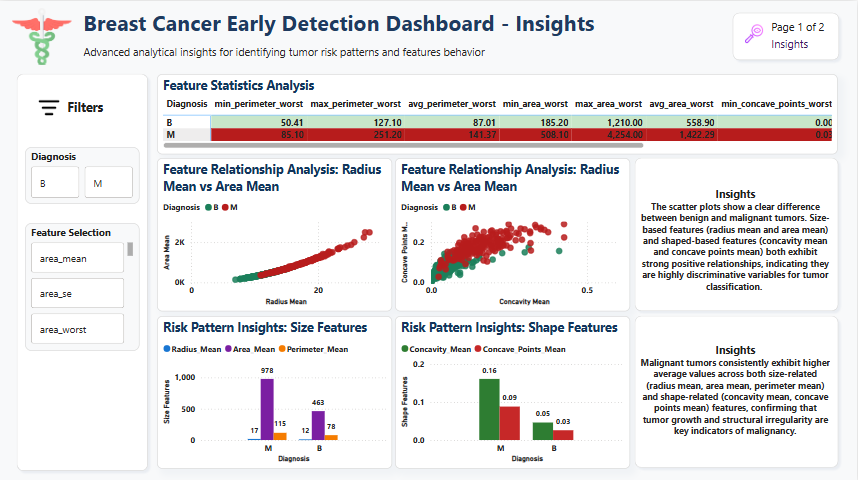

The page's visual inventory and layout, read from the dashboard file:
{"tool":"powerbi","page":{"name":"Page 2","canvas":[1280,720],"ordinal":1},"visuals":[{"type":"textbox","box":[121.4,3.9,805.3,59.3],"z":0},{"type":"textbox","box":[1148,23.1,92.5,34.4],"z":0,"group":"g1"},{"type":"textbox","box":[1148,48,92.5,34.4],"z":1000,"group":"g1"},{"type":"textbox","box":[121.4,59.3,613,36.1],"z":1000},{"type":"shape","box":[18.8,101.2,210,607],"z":2000},{"type":"advancedSlicerVisual","fields":{"Values":["early_disease vw_base_breast_cancer.diagnosis"]},"box":[39,218.3,170.6,85.3],"z":3000},{"type":"advancedSlicerVisual","fields":{"Values":["early_disease vw_feature_importance.feature"]},"box":[39,331.1,170.6,190.8],"z":4000},{"type":"shape","box":[1088.7,10.1,173.5,85.3],"z":5000},{"type":"group","id":"g1","title":"Group 3","box":[1148,23.1,92.5,59.3],"z":6000},{"type":"pivotTable","title":"Feature Statistics Analysis","fields":{"Rows":["early_disease vw_base_breast_cancer.diagnosis"],"Values":["early_disease breast_cancer.min_perimeter_worst","early_disease breast_cancer.max_perimeter_worst","early_disease breast_cancer.avg_perimeter_worst","early_disease breast_cancer.min_area_worst","early_disease breast_cancer.max_area_worst","early_disease breast_cancer.avg_area_worst","early_disease breast_cancer.min_concave_points_worst","early_disease breast_cancer.max_concave_points_worst","early_disease breast_cancer.avg_concave_points_worst"]},"box":[235.7,108.4,1016.4,120],"z":7000},{"type":"image","box":[18.8,10.1,89.6,85.3],"z":8000},{"type":"textbox","box":[96.9,140.2,75.2,41.9],"z":9000},{"type":"image","box":[52,140.2,44.8,37.6],"z":10000},{"type":"image","box":[1113.3,30.4,27.5,37.6],"z":11000},{"type":"scatterChart","title":"Feature Relationship Analysis: Radius Mean vs Area Mean","fields":{"Category":["early_disease vw_base_breast_cancer.id"],"X":["Sum(early_disease vw_base_breast_cancer.radius_mean)"],"Y":["Sum(early_disease vw_base_breast_cancer.area_mean)"],"Series":["early_disease vw_base_breast_cancer.diagnosis"]},"box":[235.7,234.2,351.3,229],"z":12000},{"type":"scatterChart","title":"Feature Relationship Analysis: Radius Mean vs Area Mean","fields":{"Category":["early_disease vw_base_breast_cancer.id"],"Series":["early_disease vw_base_breast_cancer.diagnosis"],"X":["Sum(early_disease vw_base_breast_cancer.concavity_mean)"],"Y":["Sum(early_disease vw_base_breast_cancer.concave_points_worst)"]},"box":[591.3,234.2,351.3,229],"z":13000},{"type":"shape","box":[941.2,227,318.1,243],"z":15000},{"type":"textbox","box":[952.8,271.8,293.5,176.4],"z":15500},{"type":"clusteredColumnChart","title":"Risk Pattern Insights: Size Features","fields":{"Category":["early_disease vw_base_breast_cancer.diagnosis"],"Y":["Avg(early_disease vw_base_breast_cancer.radius_mean)","Avg(early_disease vw_base_breast_cancer.area_mean)","Avg(early_disease vw_base_breast_cancer.perimeter_mean)"]},"box":[235.7,469.9,351.3,228.4],"z":15501},{"type":"clusteredColumnChart","title":"Risk Pattern Insights: Shape Features","fields":{"Category":["early_disease vw_base_breast_cancer.diagnosis"],"Y":["Avg(early_disease vw_base_breast_cancer.concavity_mean)","Avg(early_disease vw_base_breast_cancer.concave_points_mean)"]},"box":[591.3,469.9,351.3,228.4],"z":15502},{"type":"shape","box":[941.2,462.7,318.1,241],"z":15503},{"type":"textbox","box":[952.8,504.6,293.5,154.7],"z":15504}]}

Visuals, with their boxes in screenshot pixels (x1, y1, x2, y2), scaled from the page's 1280x720 canvas onto the 858x480 screenshot:
textbox: x1=81, y1=3, x2=621, y2=42
textbox: x1=770, y1=15, x2=832, y2=38
textbox: x1=770, y1=32, x2=832, y2=55
textbox: x1=81, y1=40, x2=492, y2=64
shape: x1=13, y1=67, x2=153, y2=472
advancedSlicerVisual - early_disease vw_base_breast_cancer.diagnosis: x1=26, y1=146, x2=140, y2=202
advancedSlicerVisual - early_disease vw_feature_importance.feature: x1=26, y1=221, x2=140, y2=348
shape: x1=730, y1=7, x2=846, y2=64
"Group 3" group: x1=770, y1=15, x2=832, y2=55
"Feature Statistics Analysis" pivotTable: x1=158, y1=72, x2=839, y2=152
image: x1=13, y1=7, x2=73, y2=64
textbox: x1=65, y1=93, x2=115, y2=121
image: x1=35, y1=93, x2=65, y2=119
image: x1=746, y1=20, x2=765, y2=45
"Feature Relationship Analysis: Radius Mean vs Area Mean" scatterChart: x1=158, y1=156, x2=393, y2=309
"Feature Relationship Analysis: Radius Mean vs Area Mean" scatterChart: x1=396, y1=156, x2=632, y2=309
shape: x1=631, y1=151, x2=844, y2=313
textbox: x1=639, y1=181, x2=835, y2=299
"Risk Pattern Insights: Size Features" clusteredColumnChart: x1=158, y1=313, x2=393, y2=466
"Risk Pattern Insights: Shape Features" clusteredColumnChart: x1=396, y1=313, x2=632, y2=466
shape: x1=631, y1=308, x2=844, y2=469
textbox: x1=639, y1=336, x2=835, y2=440
